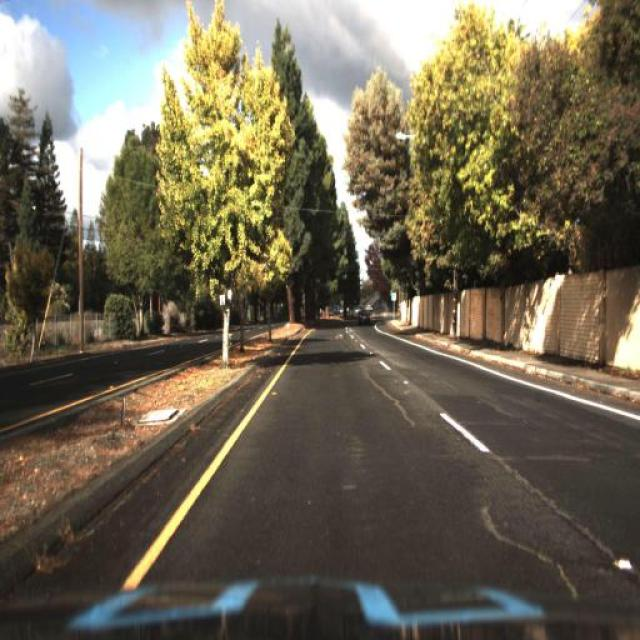car: (354, 305, 378, 331)
